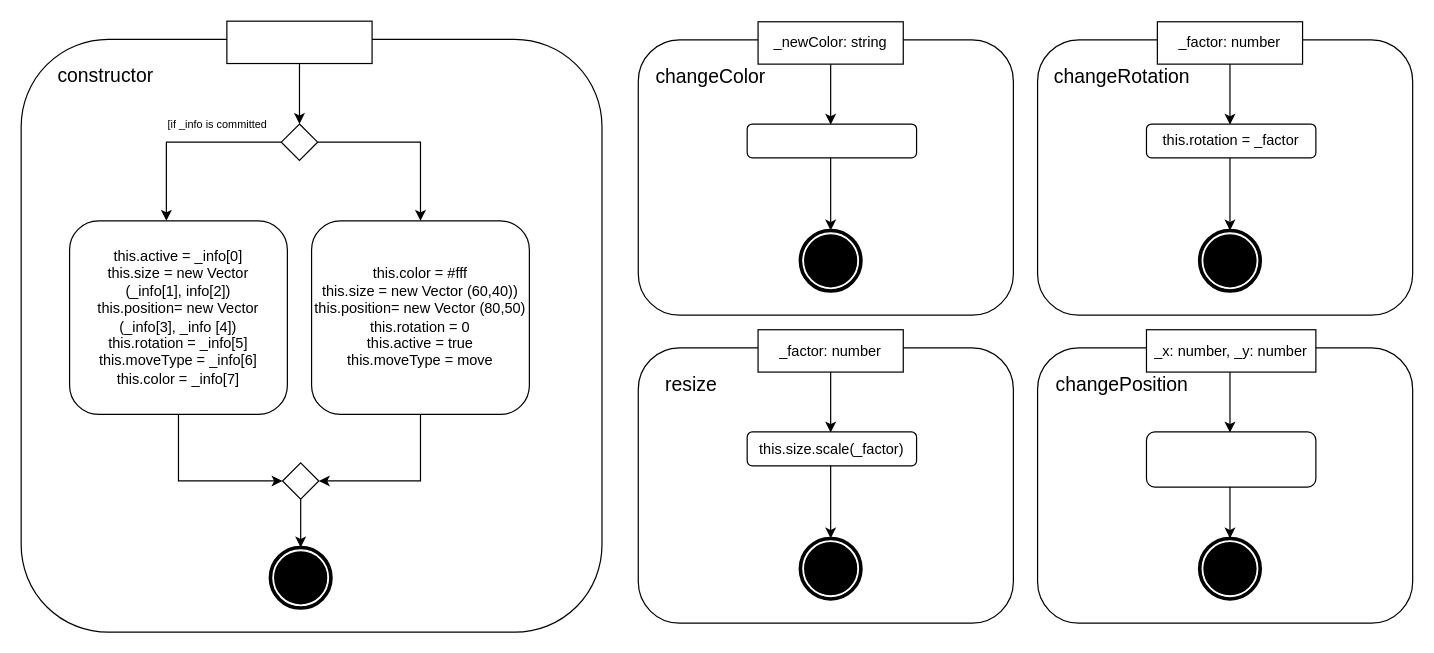
Image size: 1434x653. Some labels were removed from this diagram. Each missing label, with the centre of its shape:
_info?: string[]: the point at 299,42
this.Color = _newColor: the point at 831,140
this.positionX = _x this.positionY = _y: the point at 1230,459
